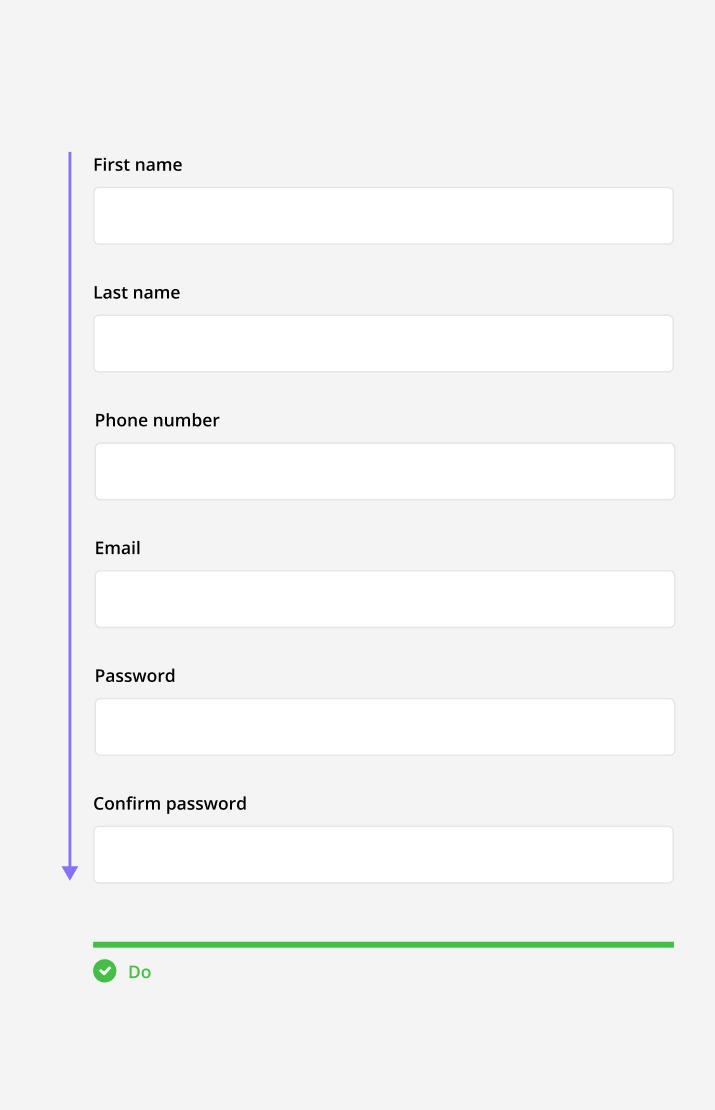input: (93, 185, 678, 249), (93, 697, 676, 760), (94, 442, 677, 504), (91, 826, 676, 887), (93, 570, 678, 630), (93, 314, 675, 374)
label: (92, 795, 248, 815), (93, 155, 187, 177), (95, 415, 222, 431), (90, 284, 184, 304), (94, 666, 177, 685), (95, 540, 143, 556)
